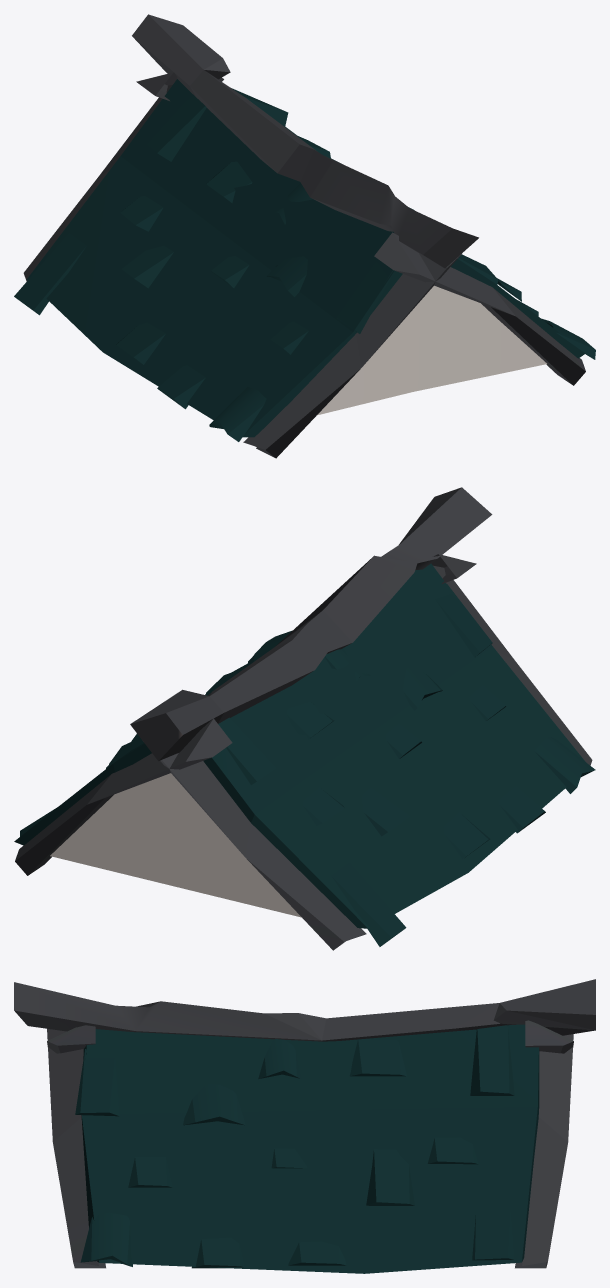
Rendered from SM_LModular_Roof_1.fbx.
The picture shows the model from 3 angles, top to bottom: view 1: azimuth 30°, elevation 25°; view 2: azimuth 150°, elevation 25°; view 3: azimuth 270°, elevation 25°; orthographic projection. The views are drawn at different scales.
Visible parts, largest first — view 1: SM_Modular_roof2; view 2: SM_Modular_roof2; view 3: SM_Modular_roof2.
Boxes of the visible parts, x1,y1,x2,y2 form: SM_Modular_roof2: [14, 14, 595, 458]; SM_Modular_roof2: [14, 487, 595, 950]; SM_Modular_roof2: [14, 979, 595, 1273].
Size of the model in its own units: 395 by 223 by 551.
